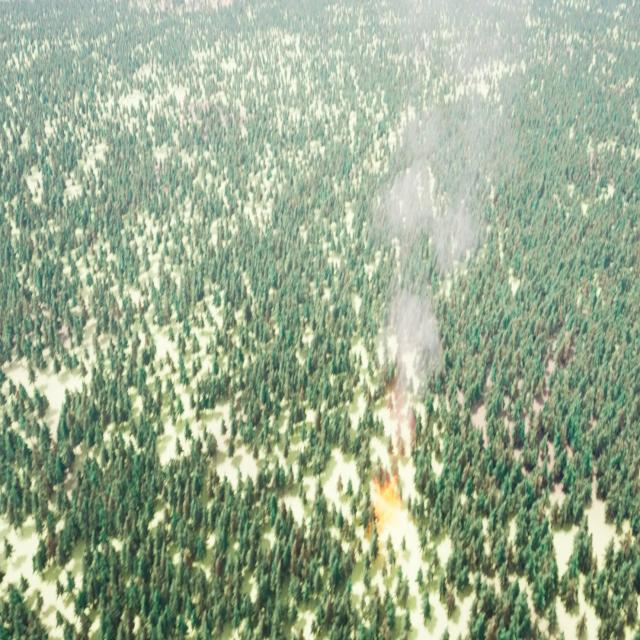fire: (372, 472, 401, 530)
smoke: (374, 0, 514, 463)
